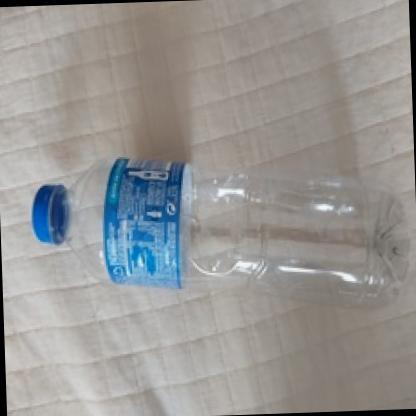plastic_bottles: (25, 145, 416, 319)
